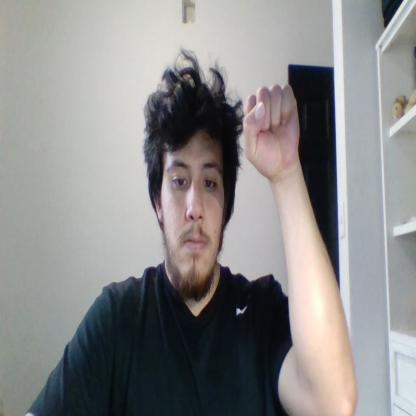S: (243, 84, 299, 178)
